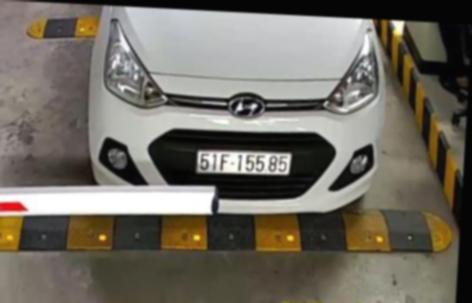License_Plate: (191, 142, 298, 183)
